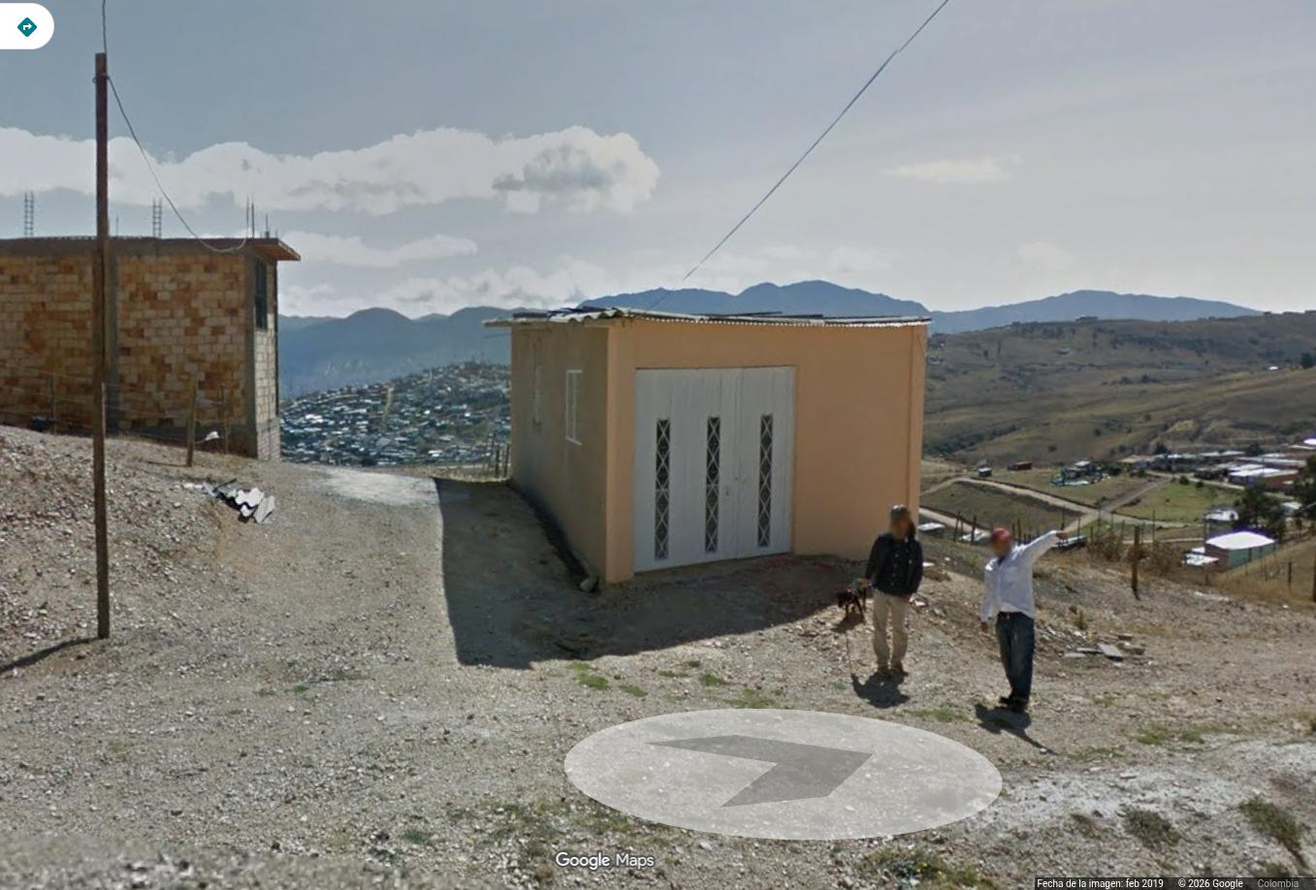casa: (491, 309, 927, 584)
